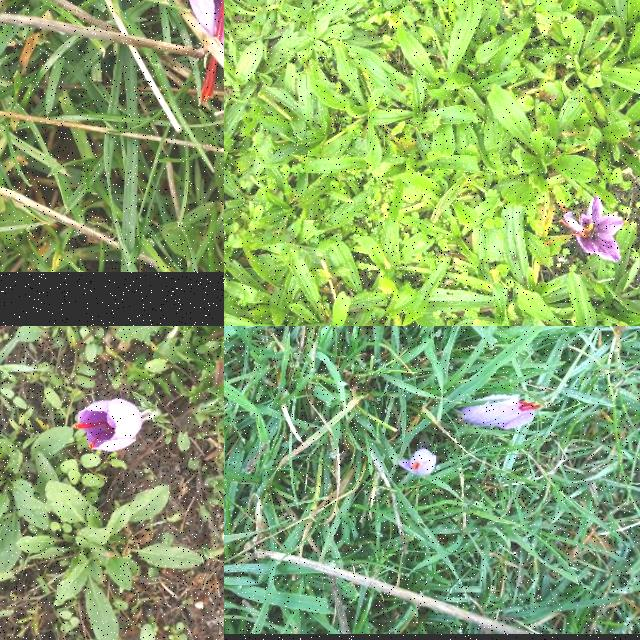flower: (564, 196, 624, 264), (72, 398, 142, 452), (462, 393, 542, 431), (397, 448, 437, 478)
